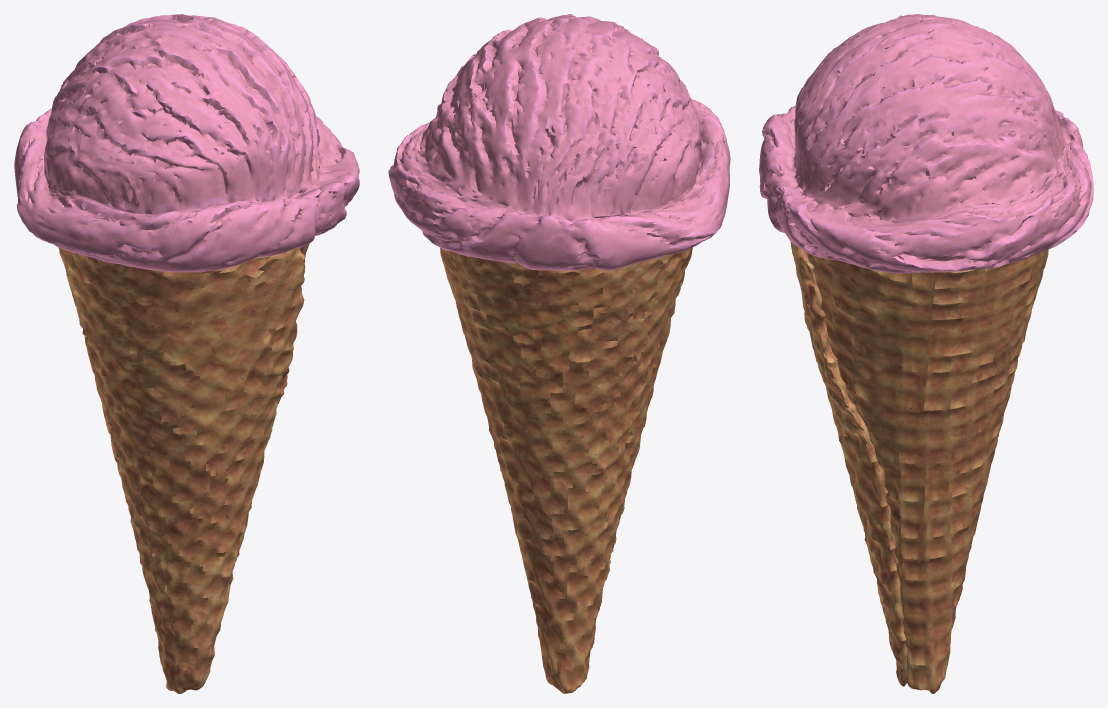
File: bola_de_sorvete.glb
3 renders of one model, left to right at view 1: azimuth 30°, elevation 25°; view 2: azimuth 150°, elevation 25°; view 3: azimuth 270°, elevation 25°, orthographic.
Parts seen in each view (by area): view 1: SORVETE; view 2: SORVETE; view 3: SORVETE.
Boxes of the visible parts, x1=… form: SORVETE: x1=14, y1=14, x2=359, y2=693; SORVETE: x1=388, y1=14, x2=730, y2=693; SORVETE: x1=759, y1=14, x2=1093, y2=693.
Size of the model in its own units: 0.8659 by 1.81 by 0.828.
2 materials, 2 textured.
